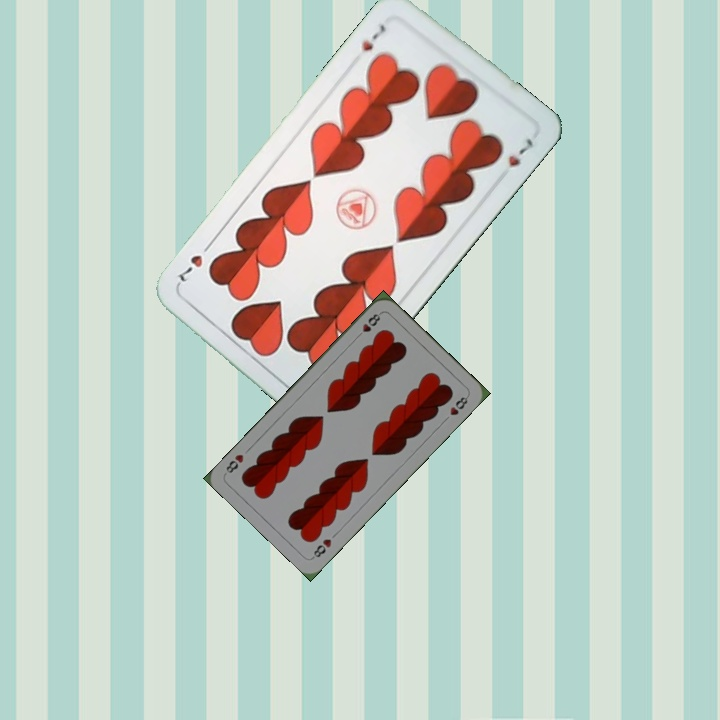H7: (357, 20, 389, 54)
H8: (352, 309, 383, 342), (308, 534, 334, 561)
